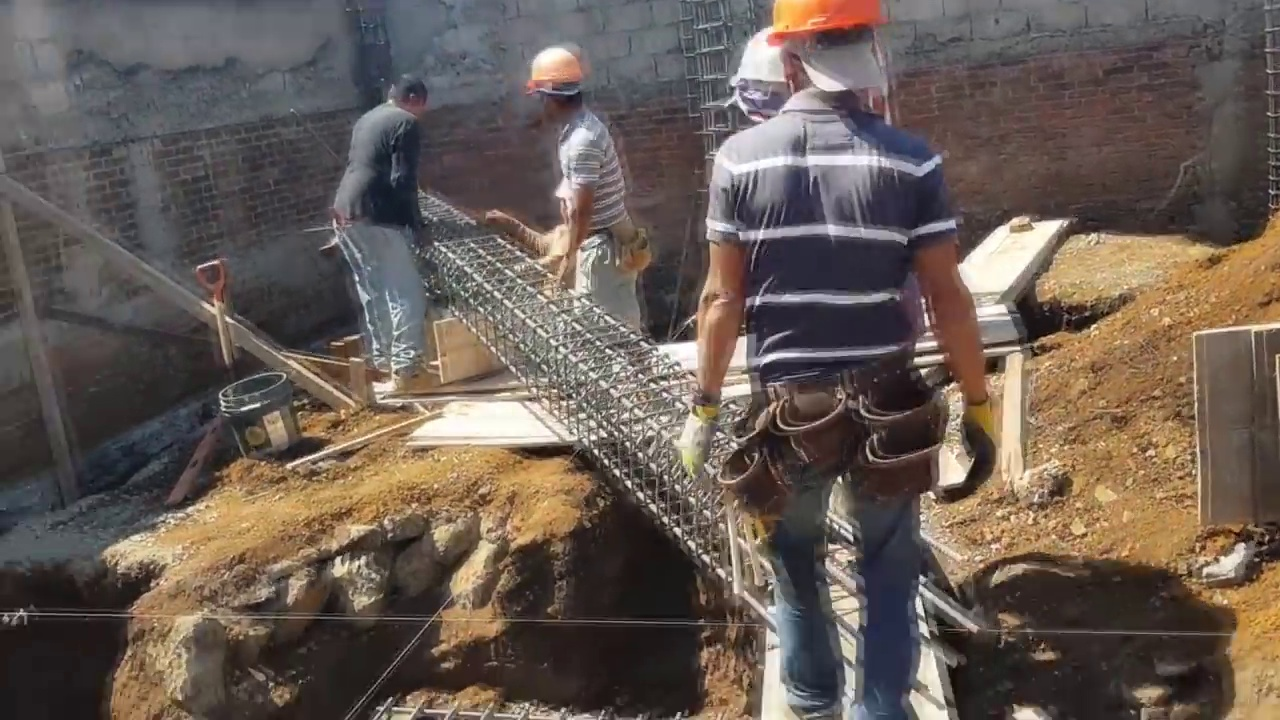helmet: (770, 3, 891, 53), (734, 31, 797, 85), (521, 45, 586, 86)
helmet-off: (388, 70, 433, 119)
helmet-on: (768, 1, 895, 124), (731, 27, 797, 120), (522, 44, 585, 137)
person: (683, 0, 1009, 720), (333, 59, 434, 399), (524, 43, 632, 329)
